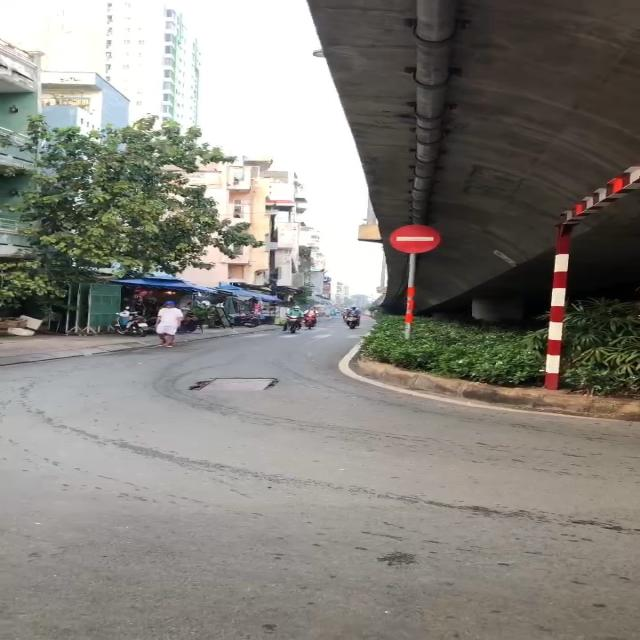Bien bao cam di nguoc chieu: (386, 219, 446, 256)
